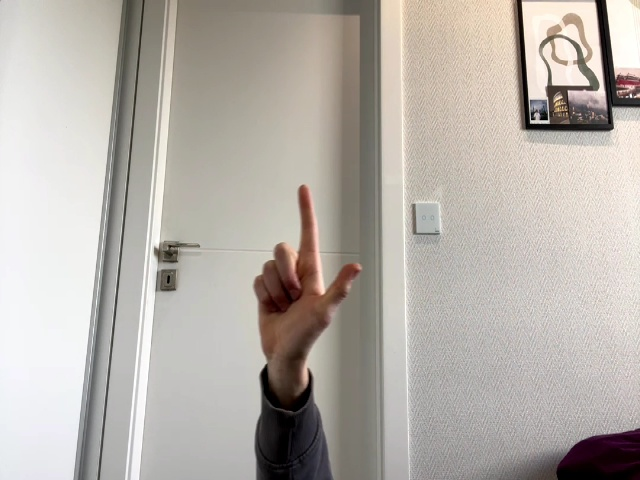L: (253, 185, 361, 367)
